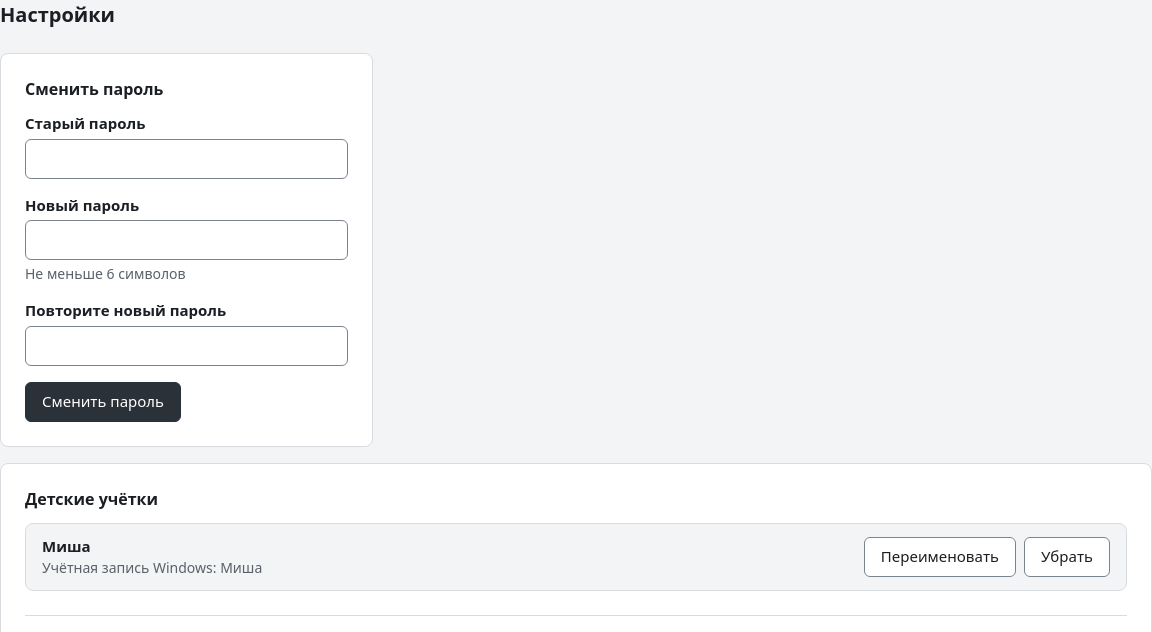
Test: Settings: детские учётки › убрать: подтверждение с текстом из ТЗ, потом убирает
This screenshot has width=1152, height=632.
Click the button with aria-label "Убрать Миша".
click(1067, 557)  # box 1024,537 -> 1110,577
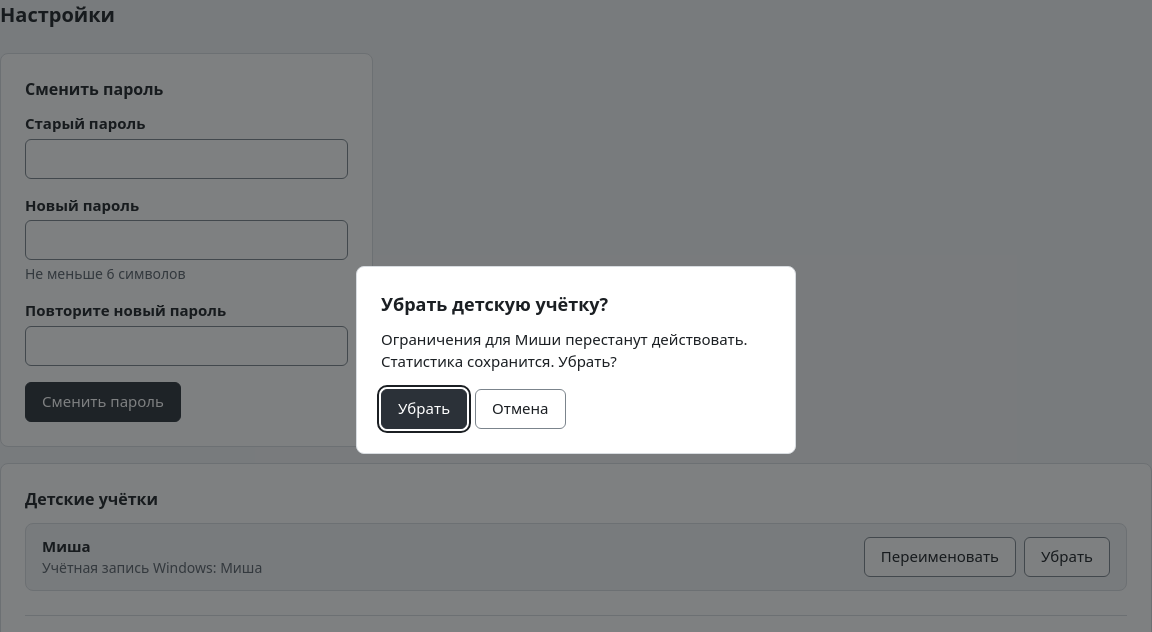
Result: the text "Ограничения для Миши перестанут действовать. Статистика сохранится. Убрать?" is shown at 381,329 -> 771,373
Click the button "Убрать".
click(424, 409)  # box 381,389 -> 467,429
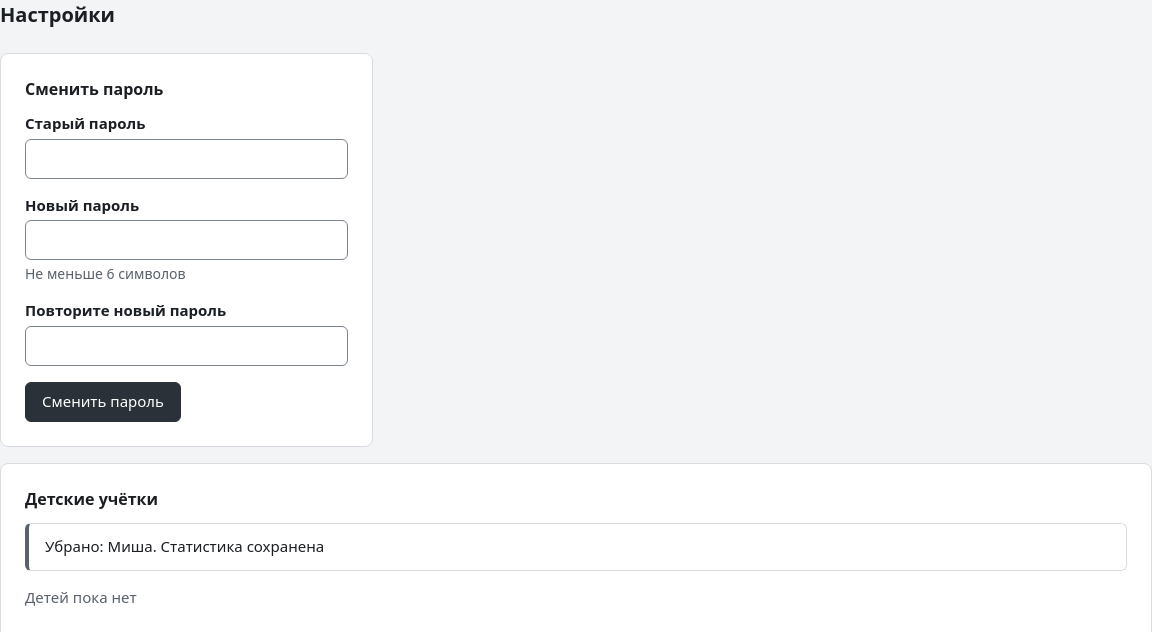
Result: the text "Детей пока нет" is shown at 25,587 -> 137,607
Result: the dialog is gone
Result: the text "Убрано: Миша. Статистика сохранена" is shown at 25,523 -> 1127,571
